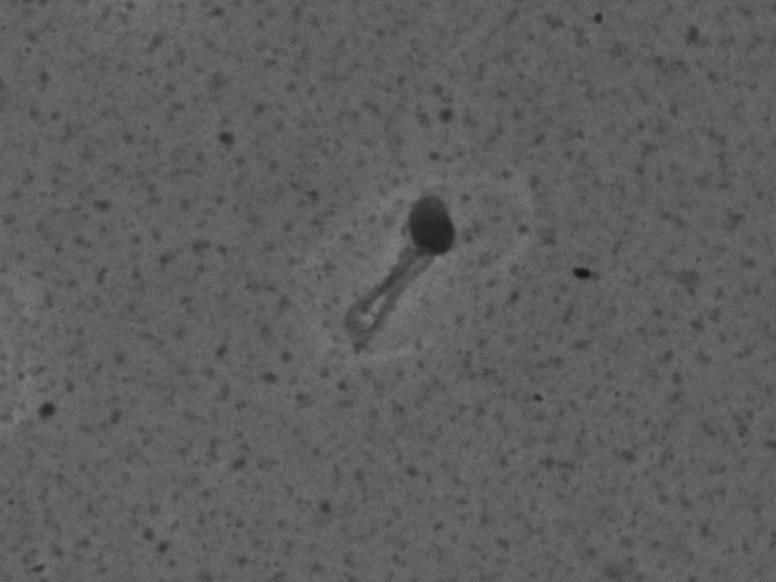Abnormal: (306, 131, 509, 380)
